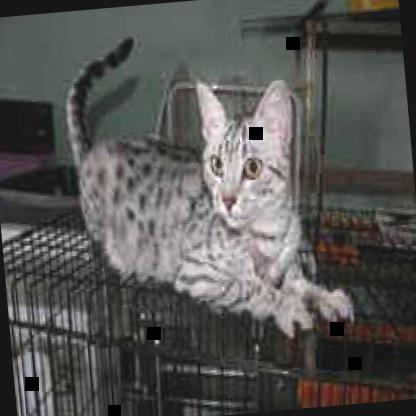cat: (59, 18, 357, 357)
